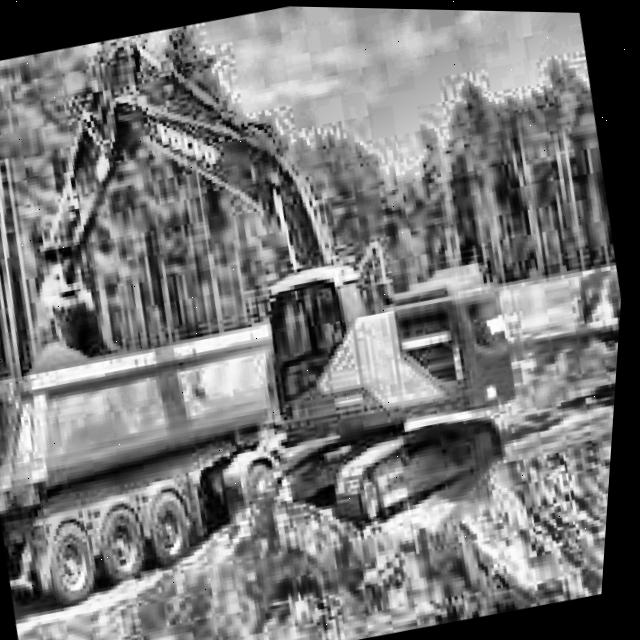dump_truck: (0, 284, 322, 615)
excavator: (0, 0, 560, 584)
